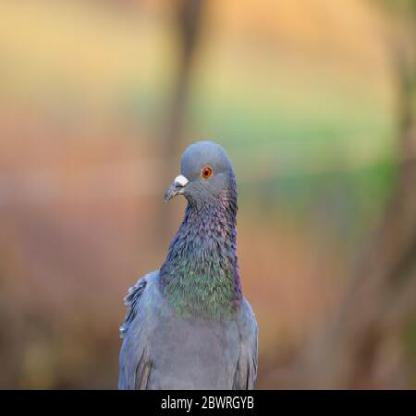Flying Rat: (116, 130, 259, 390)
